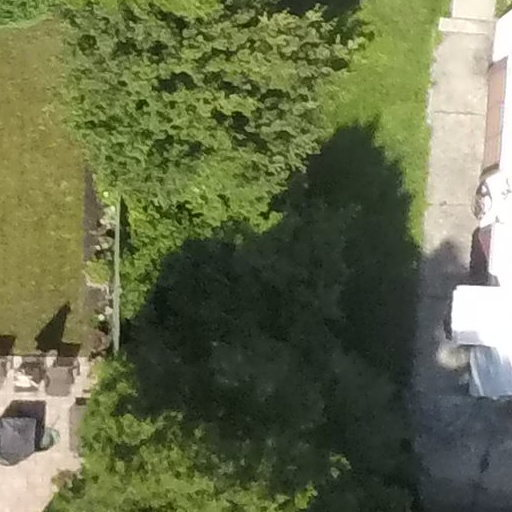container: (94, 232, 118, 253), (101, 187, 111, 201), (95, 311, 105, 323)
statue: (88, 230, 114, 255)
